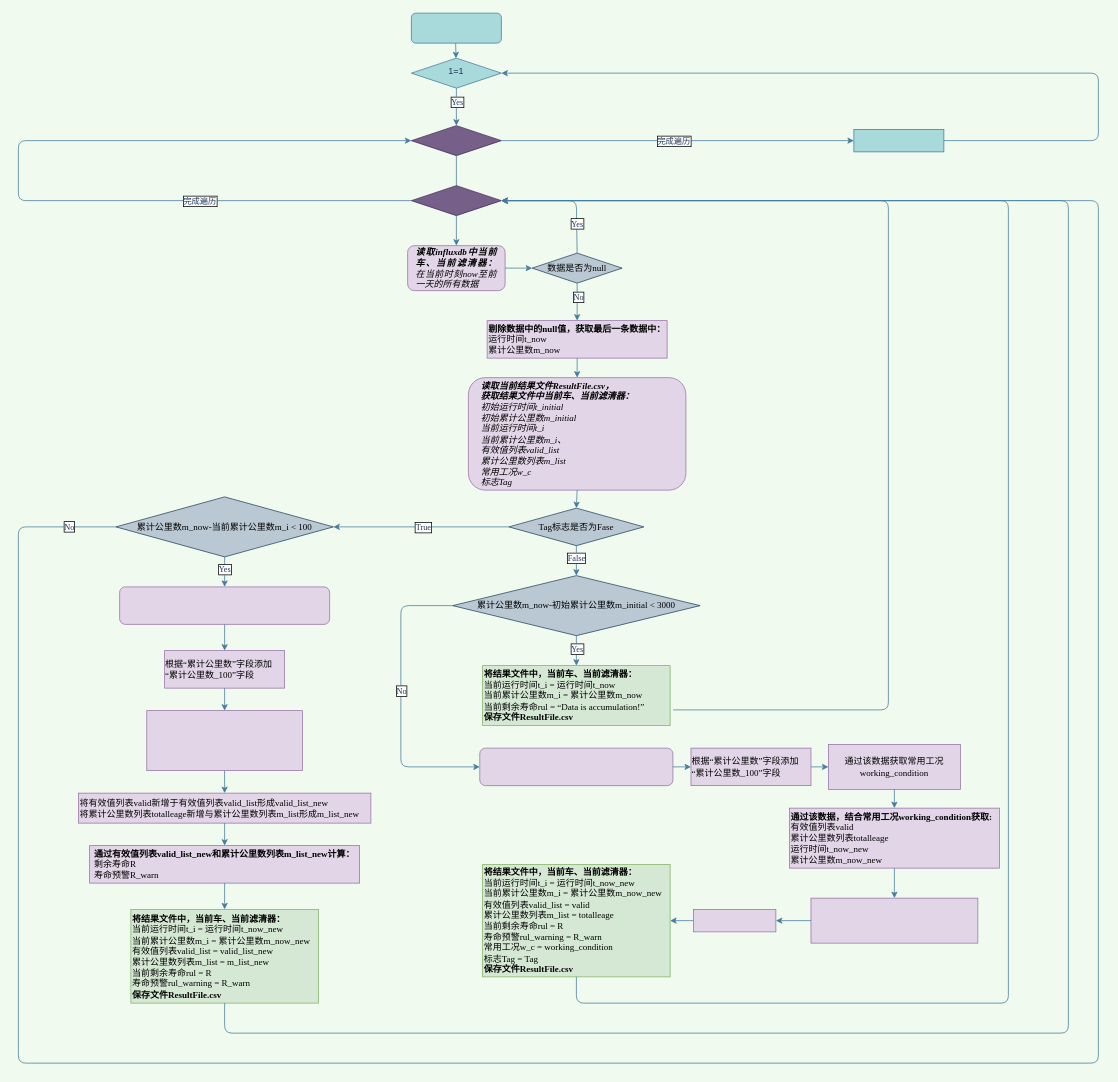
Some shapes in this 1118 by 1082 pixel diagram are drawn without their labels. The centre of each missing label's shape, as x and y in pixels:
"Tag = True" goes at point (734, 920).
"休眠30分钟" goes at point (898, 140).
"开始" goes at point (456, 27).
"读取当前车、当前滤清器： 运行时间t_now至初始运行时间t_initial的所有数据，剔除null值" goes at point (576, 766).
"读取当前车、当前滤清器： 运行时间t_now至当前时运行时间t_i的所有数据" goes at point (224, 605).
"通过有效值列表和累计公里数列表计算： 剩余寿命R 寿命预警R_warn" goes at point (894, 920).
"通过该数据，结合常用工况w_c获取: 有效值列表valid 累计公里数列表totalleage 运行时间t_now_new 累计公里数m_now_new" goes at point (224, 740).
"遍历三台车" goes at point (456, 200).
"遍历三滤" goes at point (456, 140).
